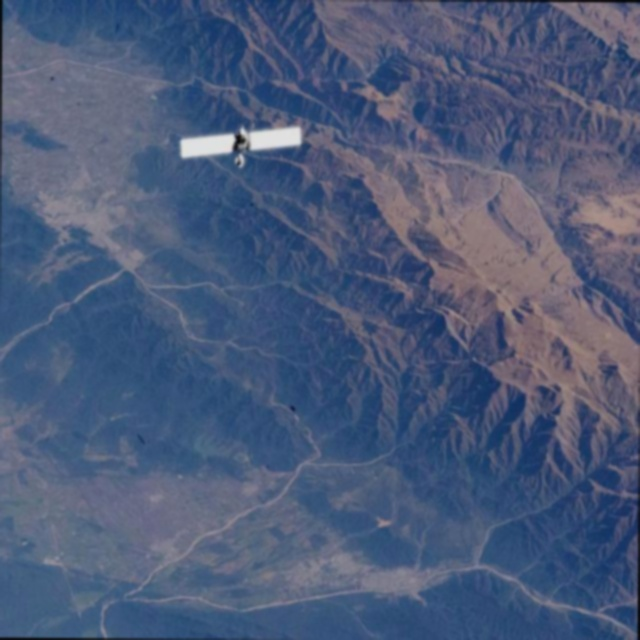satellite: (173, 118, 312, 176)
